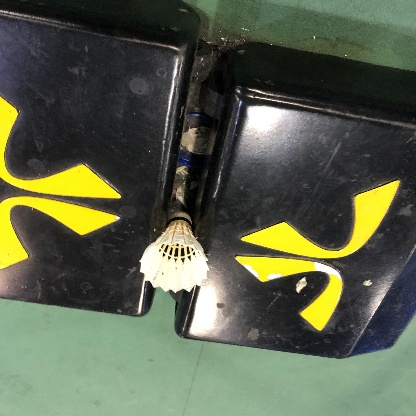ball_single: (140, 211, 210, 293)
